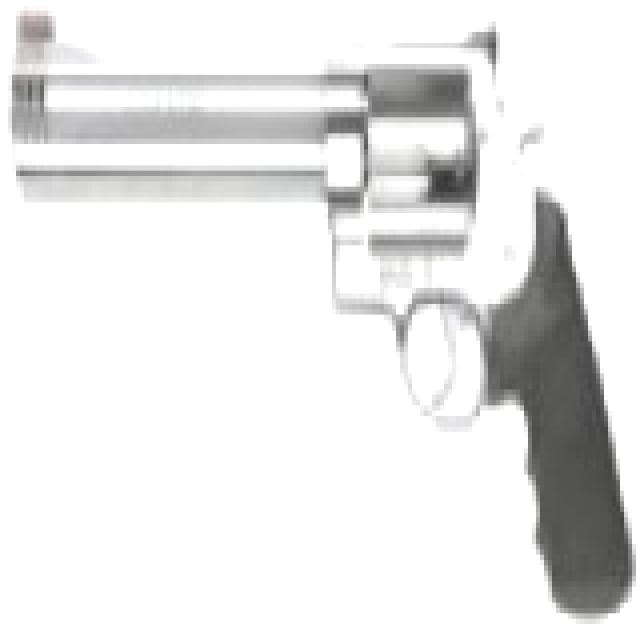pistol: (16, 0, 632, 603)
